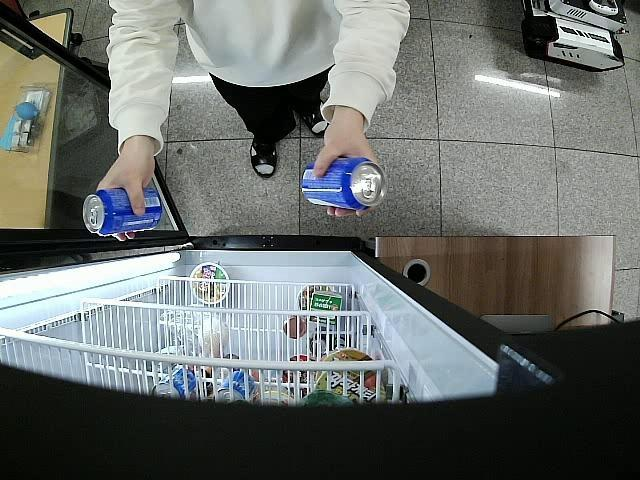13_pocariSweat: (302, 155, 385, 210), (84, 188, 164, 236)
